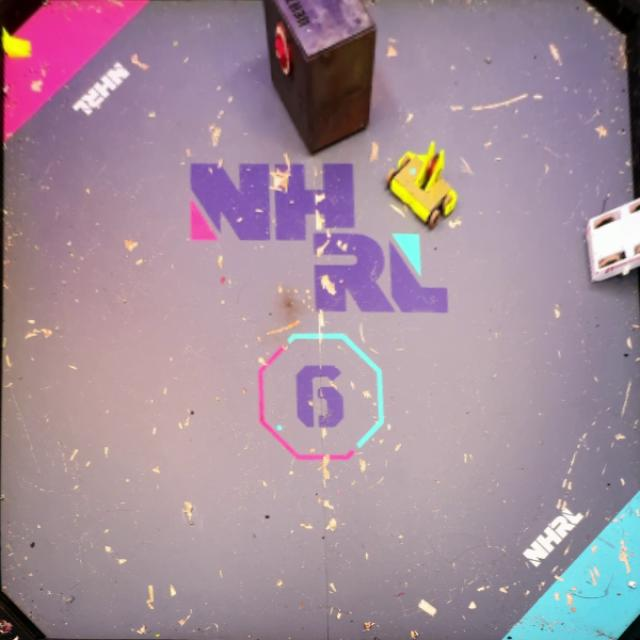housebot: (263, 0, 377, 158)
robot: (386, 140, 459, 230), (586, 196, 640, 282)
